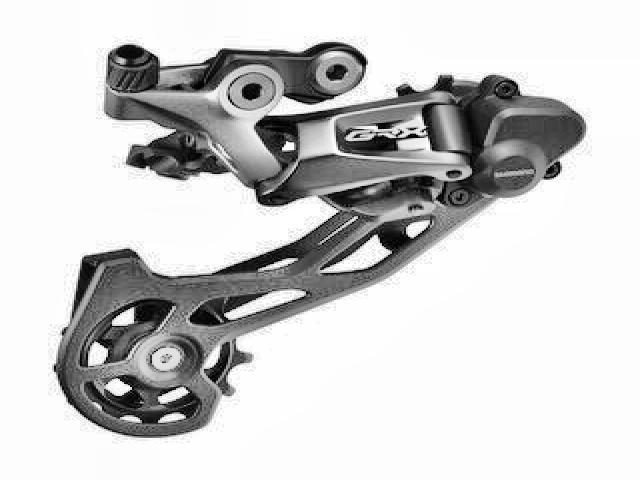rear_derailleur: (51, 24, 589, 440)
